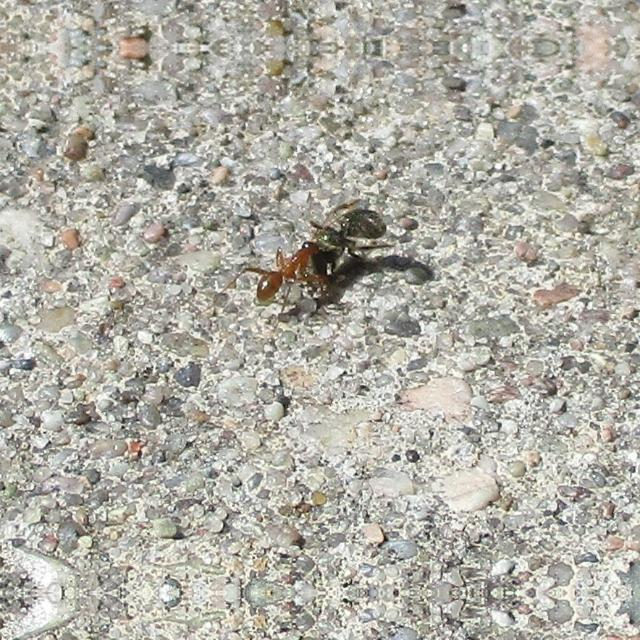Camponotus: (235, 210, 327, 324)
